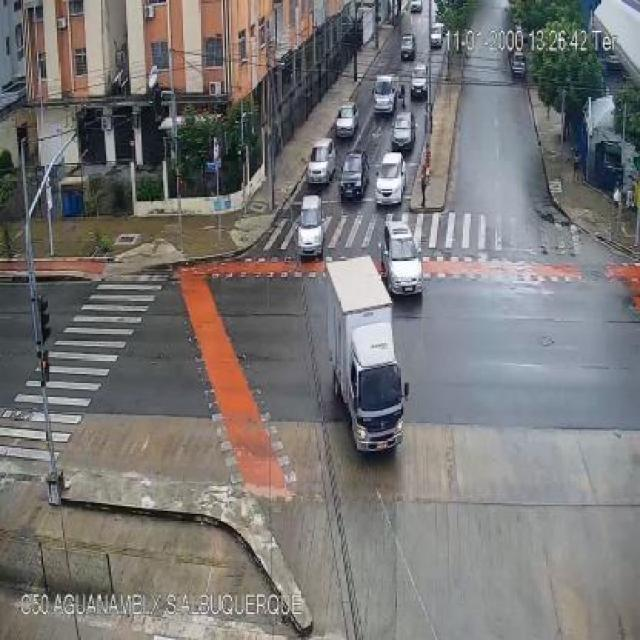Car: (380, 219, 422, 296), (296, 196, 324, 259), (374, 152, 407, 205), (339, 150, 371, 200), (307, 138, 337, 185), (391, 112, 415, 152), (334, 103, 359, 138), (510, 51, 528, 78), (400, 33, 416, 59), (430, 22, 445, 48), (410, 0, 422, 13)
Truck: (322, 255, 412, 460), (372, 70, 397, 117), (411, 66, 428, 99)
